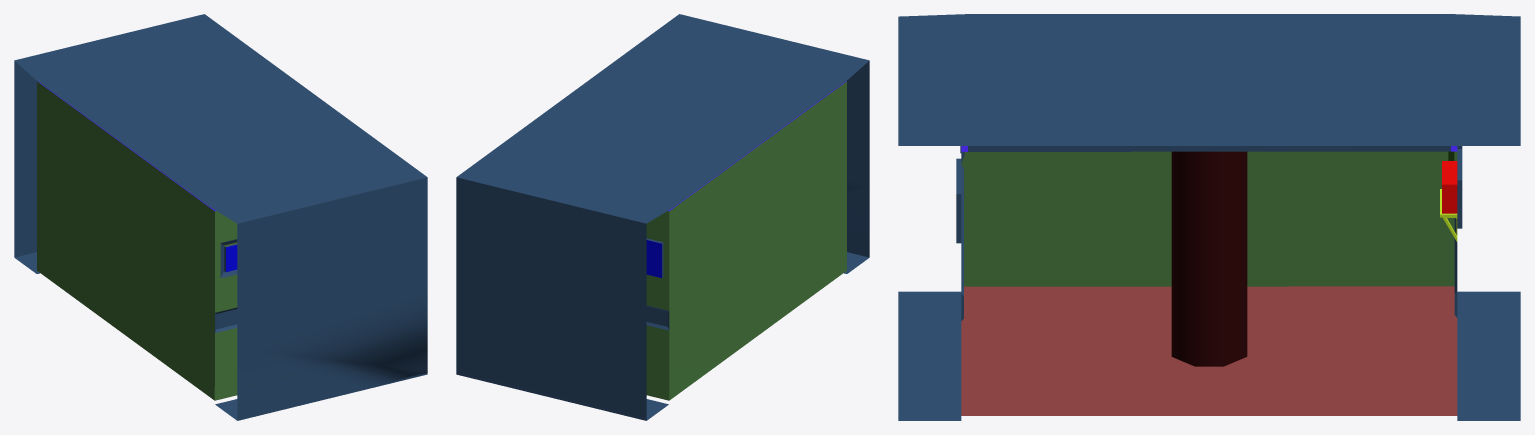
The model's file is straightOuter.FBX.
3 views of the same model, side by side, from view 1: azimuth 30°, elevation 25°; view 2: azimuth 150°, elevation 25°; view 3: azimuth 270°, elevation 25° (orthographic). The views are drawn at different scales.
Parts seen in each view (by area): view 1: Object049; view 2: Object049; view 3: Object049.
Boxes of the visible parts, bbox=[...] form: Object049: bbox=[14, 14, 427, 420]; Object049: bbox=[456, 14, 869, 420]; Object049: bbox=[898, 14, 1520, 420].
Bounding box in the file's own units: 240 × 233 × 478.
